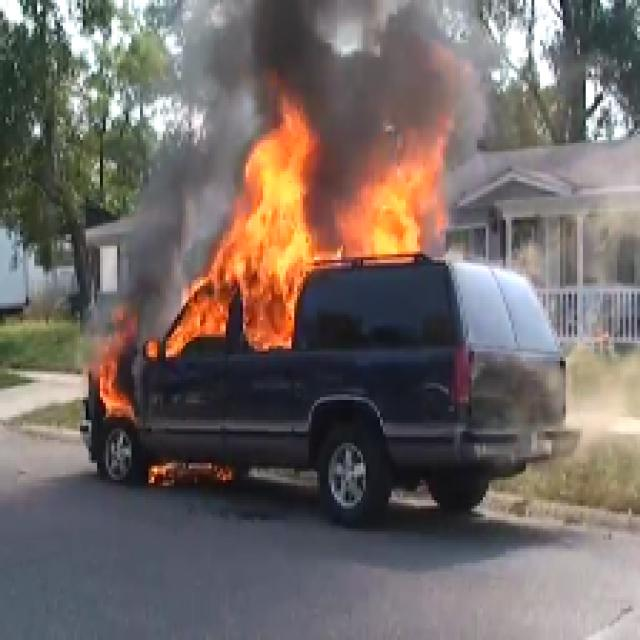fire: (173, 133, 317, 355), (330, 142, 452, 260), (90, 318, 142, 422)
smoke: (185, 0, 482, 108)
